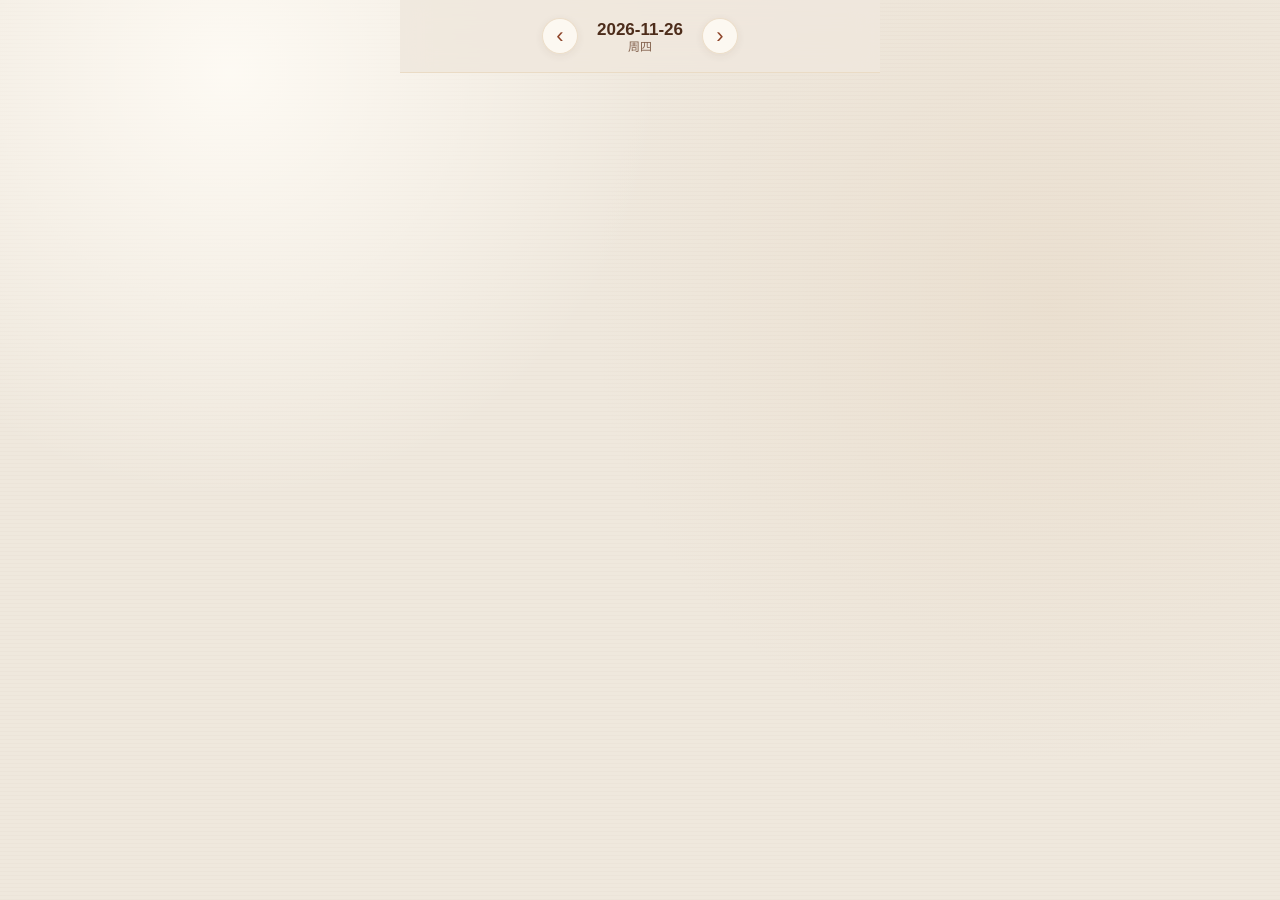
Test case: DateBar › clicking the date opens the calendar dialog and picking a day closes it
The width and height of the screenshot is (1280, 900).
Click the button with aria-label "选择日期" at (640, 36), box [586,13,694,59]
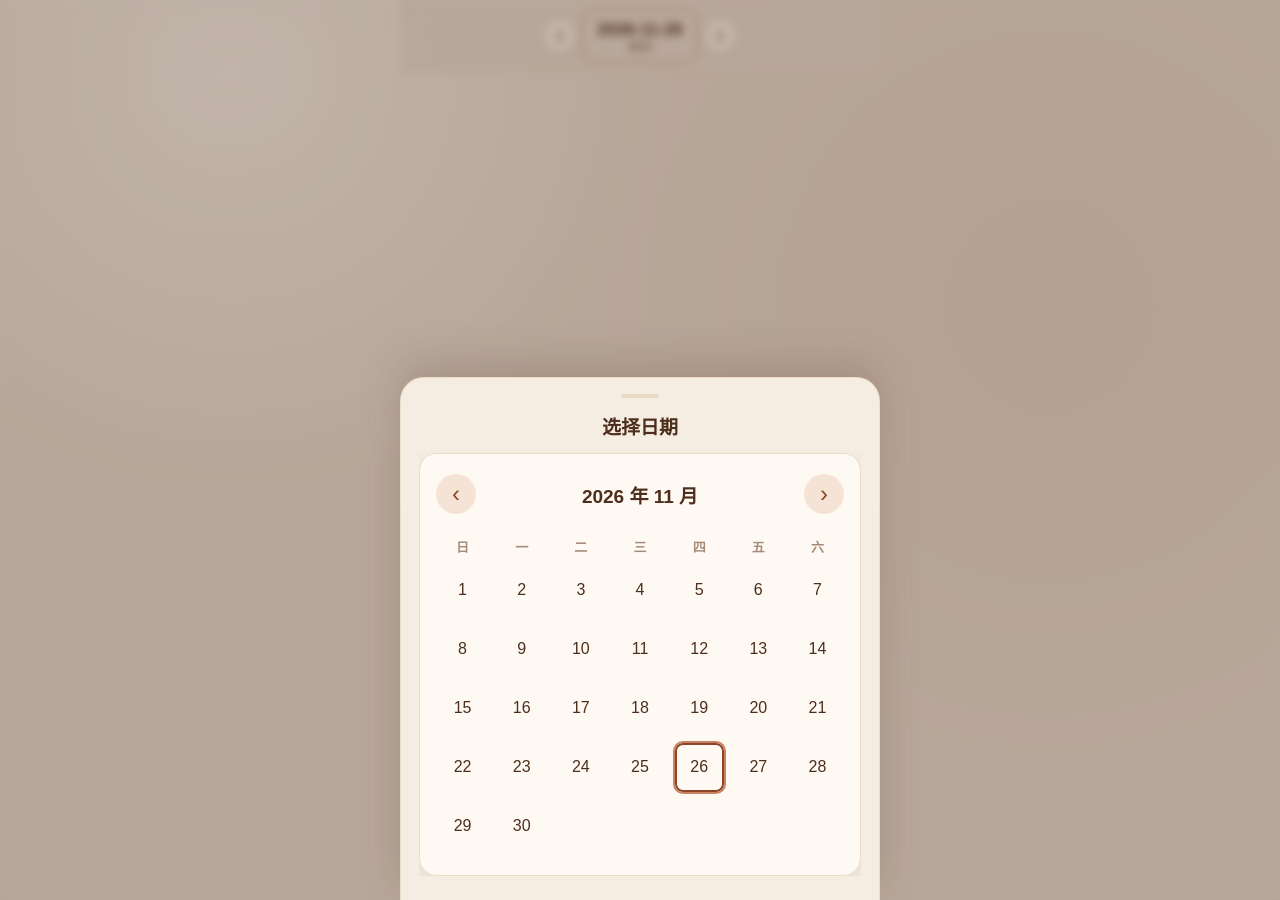
Expected: the dialog "选择日期" is shown, [400,377,880,899]
Click the button "9" at (522, 649), box [495,622,548,676]
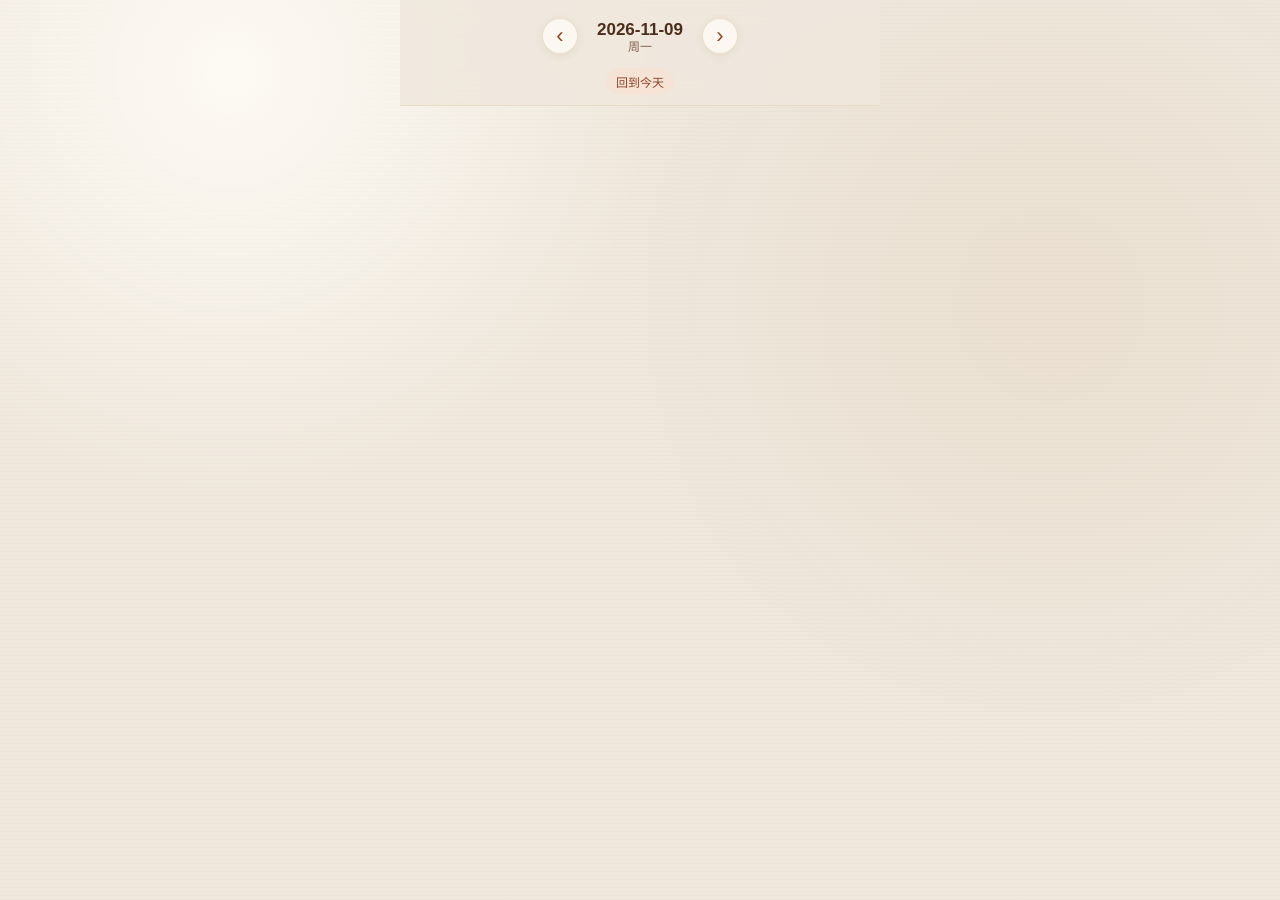
Expected: the text "选择日期" is gone
